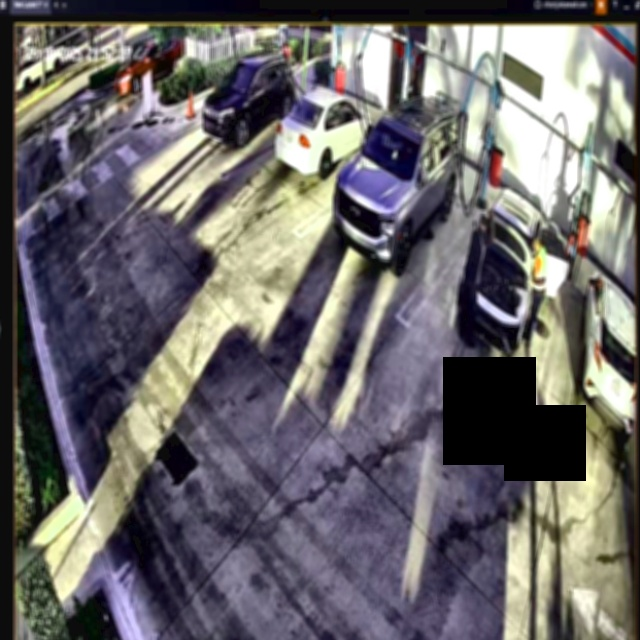Car: (332, 97, 457, 270), (457, 188, 565, 346), (276, 87, 374, 175)
